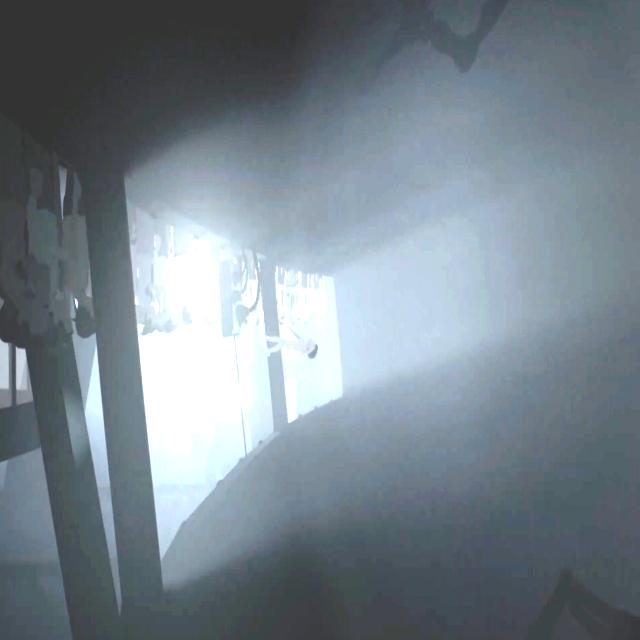boy: (264, 329, 319, 361)
human: (27, 164, 61, 342), (62, 179, 96, 340), (154, 221, 175, 334), (138, 216, 157, 334), (172, 232, 195, 324), (195, 240, 215, 326), (244, 256, 259, 329), (287, 272, 297, 326), (300, 275, 309, 324), (278, 269, 286, 323), (312, 277, 320, 323)
interactible: (219, 248, 259, 341)
mechanism: (389, 0, 513, 70)
